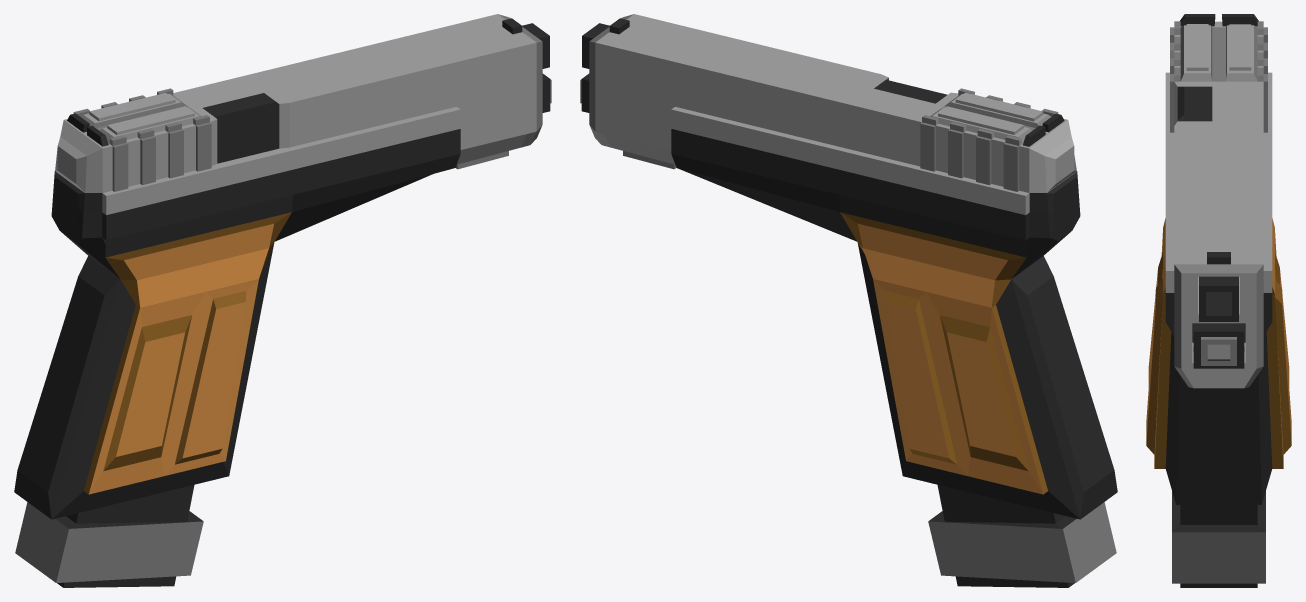
File: Pistol.fbx
The picture shows the model from 3 angles, left to right: view 1: azimuth 30°, elevation 25°; view 2: azimuth 150°, elevation 25°; view 3: azimuth 270°, elevation 25°; orthographic projection. The views are drawn at different scales.
Visible parts, largest first — view 1: Holder, Barrel, Magazine, Tube; view 2: Holder, Barrel, Magazine, Tube; view 3: Barrel, Holder, Magazine, Tube.
Part boxes in pixels (x1,y1,x2,y2): Holder: (14, 106, 460, 519); Barrel: (55, 14, 542, 192); Magazine: (15, 484, 203, 587); Tube: (202, 23, 551, 163); Holder: (671, 106, 1117, 519); Barrel: (589, 14, 1076, 192); Magazine: (928, 484, 1116, 587); Tube: (580, 23, 947, 112); Barrel: (1170, 14, 1267, 388); Holder: (1146, 72, 1291, 504); Magazine: (1172, 491, 1265, 587); Tube: (1184, 86, 1244, 368).
Bounding box in the file's own units: 200 × 174 × 42.96.
